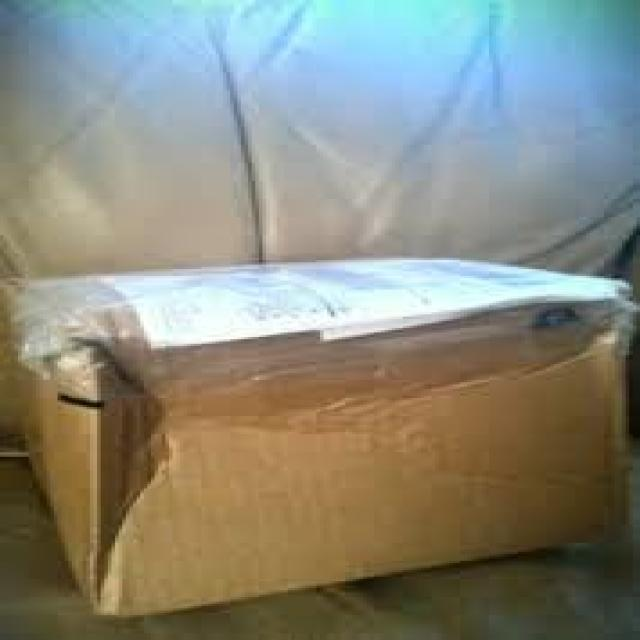box: (0, 255, 640, 617), (84, 343, 179, 612)
crushed: (534, 269, 636, 363)
